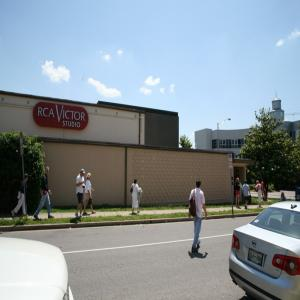Vehicle-registration-plate: (249, 250, 264, 264)
